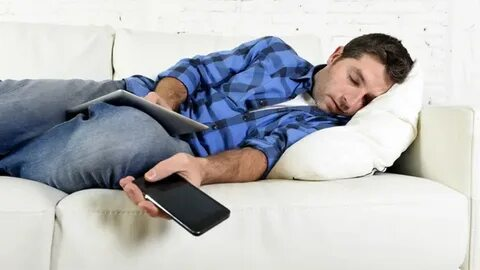sleep: (1, 31, 415, 191)
